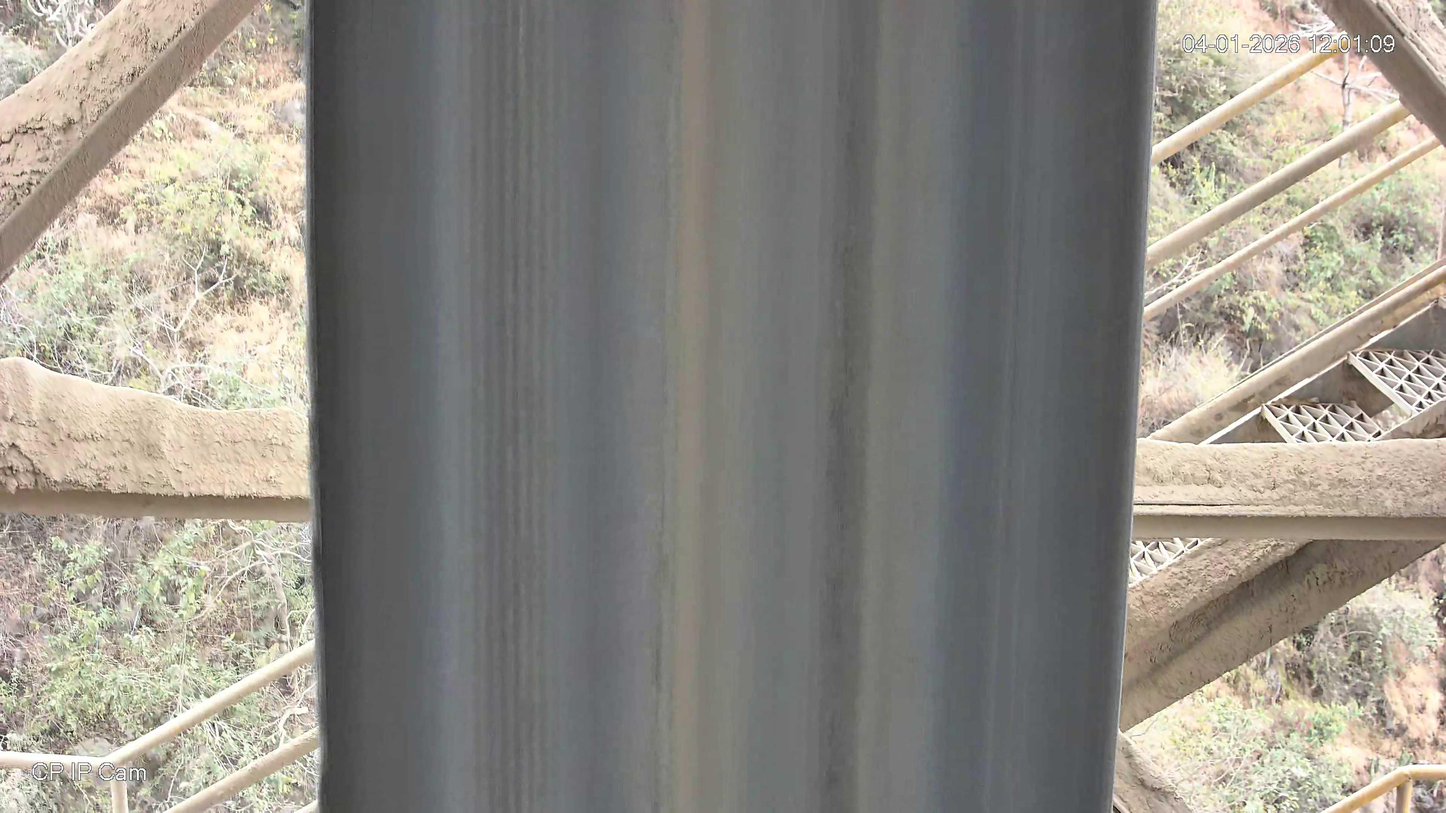belt_roi: (304, 0, 1160, 813)
